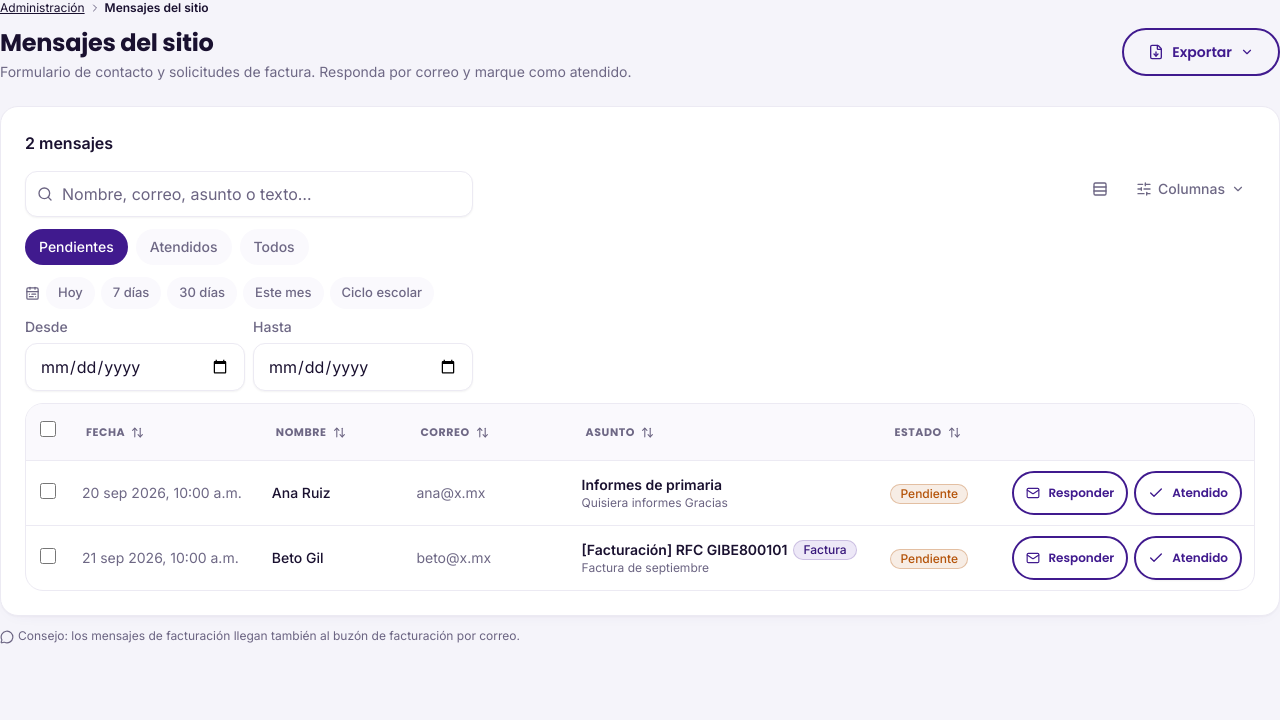
Test: AdminContactInbox › toggles one message and opens the message drawer on row click
Check: the text "Informes de primaria" is shown, box [582,475,722,495]
Click the button with aria-label "Marcar atendido el mensaje de Ana Ruiz". click: (1188, 493)
box: [1134,471,1242,515]
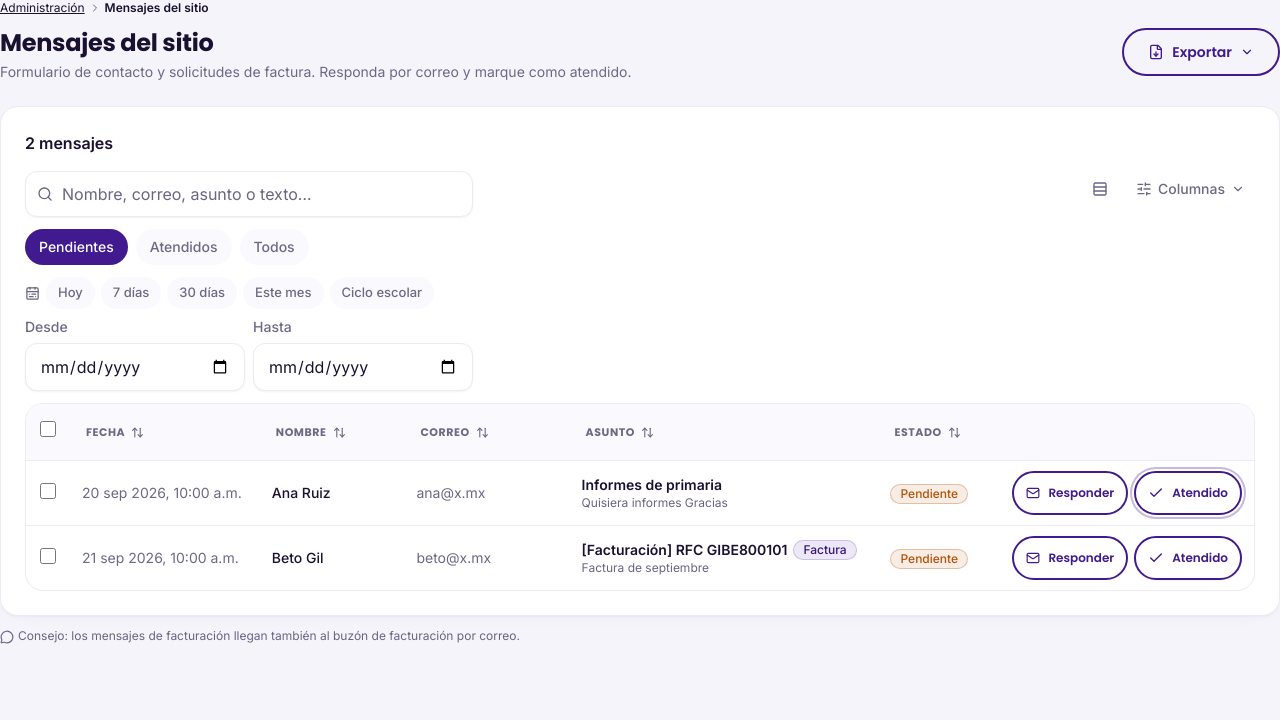
Click the text "Factura de septiembre". click: (645, 568)
box: [582,560,709,575]
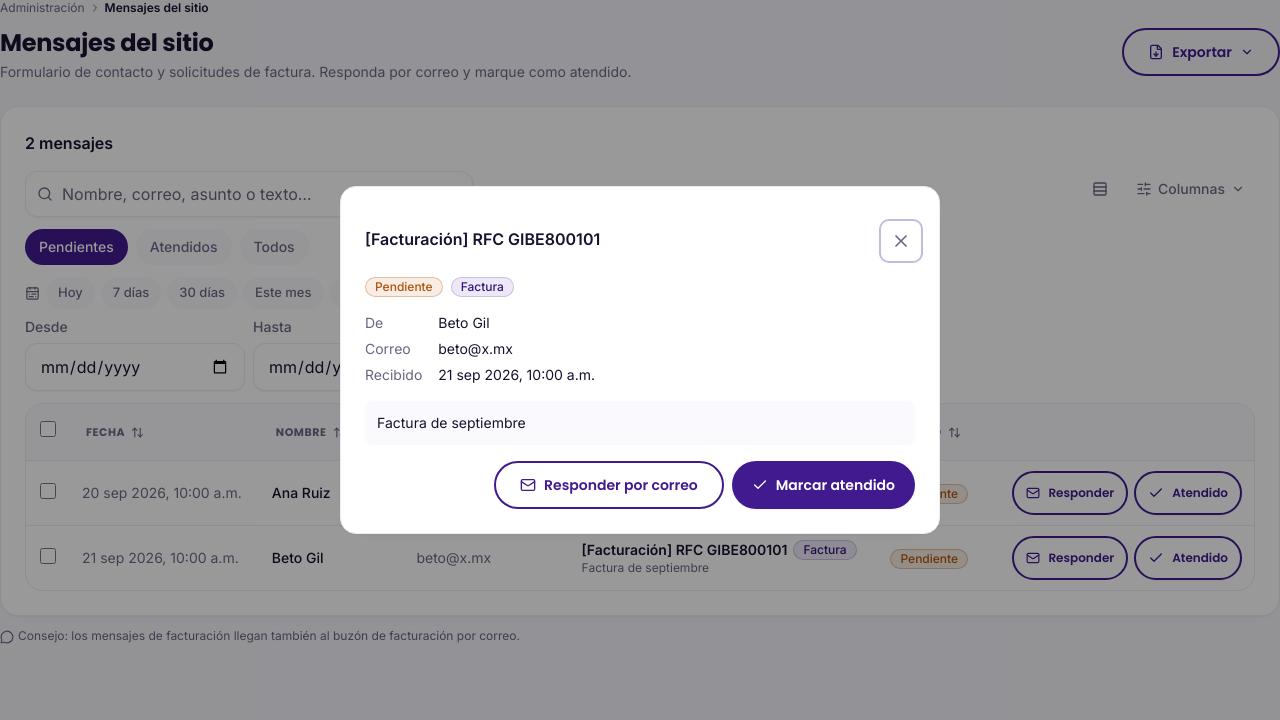
Check: the text "beto@x.mx" is shown, box [438,340,513,357]
